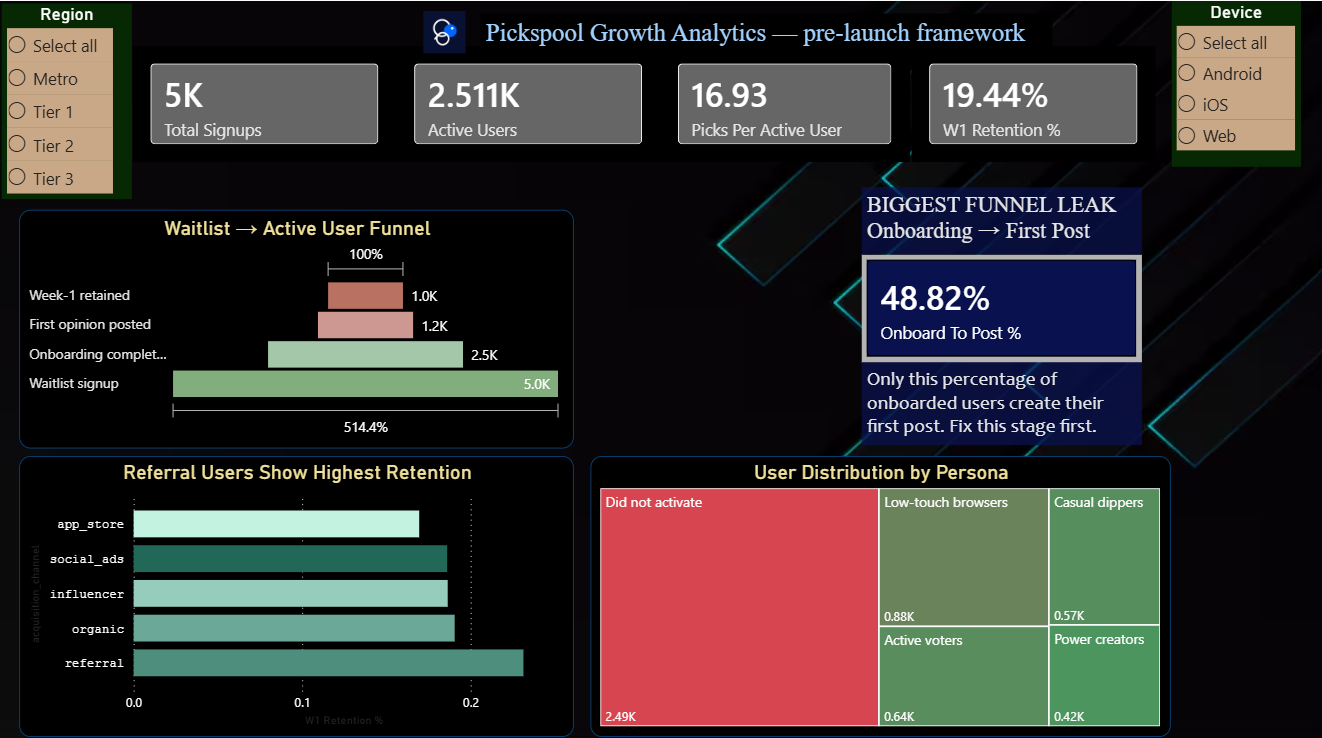

The dashboard page shown, as its layout file describes it:
{"tool":"powerbi","page":{"name":"Pickspool Growth Analytics","canvas":[1280,720],"ordinal":0},"visuals":[{"type":"funnel","title":"Waitlist → Active User Funnel","fields":{"Category":["pickspool_funnel_stages.funnel_stage"],"Y":["Sum(pickspool_funnel_stages.users)"]},"box":[20.5,201.3,535.4,230],"z":0},{"type":"clusteredBarChart","title":"Referral Users Show Highest Retention","fields":{"Category":["pickspool_users_enriched.acquisition_channel"],"Y":["pickspool_events.W1 Retention %"]},"box":[20.5,439.5,535.4,271.1],"z":1000},{"type":"cardVisual","fields":{"Data":["pickspool_events.Total Signups"]},"box":[130.1,43.8,254.7,112.3],"z":2000},{"type":"cardVisual","fields":{"Data":["pickspool_events.Active Users"]},"box":[384.8,43.8,254.7,112.3],"z":3000},{"type":"cardVisual","fields":{"Data":["pickspool_events.Picks Per Active User"]},"box":[639.5,43.8,241,112.3],"z":4000},{"type":"cardVisual","fields":{"Data":["pickspool_events.W1 Retention %"]},"box":[881.8,43.8,235.5,112.3],"z":5000},{"type":"cardVisual","fields":{"Data":["pickspool_users_enriched.Onboard To Post %"]},"box":[822.9,245.1,269.7,104.1],"z":6000},{"type":"textbox","box":[822.9,179.4,269.7,65.7],"z":7000},{"type":"textbox","box":[822.9,349.2,269.7,79.4],"z":8000},{"type":"treemap","title":"User Distribution by Persona","fields":{"Group":["pickspool_users_enriched.cluster_label"],"Values":["Count(pickspool_users_enriched.user_id)"]},"box":[572.4,439.5,560,271.1],"z":9000},{"type":"listSlicer","fields":{"Values":["pickspool_users_enriched.region"]},"box":[4.1,2.7,126,189],"z":10000},{"type":"listSlicer","fields":{"Values":["pickspool_users_enriched.device"]},"box":[1132.4,0,124.6,160.2],"z":11000},{"type":"textbox","box":[465.6,12.3,551.8,43.8],"z":11001},{"type":"image","box":[397.1,9.6,68.5,41.1],"z":11002}]}

Visuals, with their boxes in screenshot pixels (x1, y1, x2, y2), scaled from the page's 1280x720 canvas onto the 1322x738 screenshot:
"Waitlist → Active User Funnel" funnel: rect(21, 206, 574, 442)
"Referral Users Show Highest Retention" clusteredBarChart: rect(21, 450, 574, 728)
cardVisual - pickspool_events.Total Signups: rect(134, 45, 397, 160)
cardVisual - pickspool_events.Active Users: rect(397, 45, 660, 160)
cardVisual - pickspool_events.Picks Per Active User: rect(660, 45, 909, 160)
cardVisual - pickspool_events.W1 Retention %: rect(911, 45, 1154, 160)
cardVisual - pickspool_users_enriched.Onboard To Post %: rect(850, 251, 1128, 358)
textbox: rect(850, 184, 1128, 251)
textbox: rect(850, 358, 1128, 439)
"User Distribution by Persona" treemap: rect(591, 450, 1170, 728)
listSlicer - pickspool_users_enriched.region: rect(4, 3, 134, 196)
listSlicer - pickspool_users_enriched.device: rect(1170, 0, 1298, 164)
textbox: rect(481, 13, 1051, 58)
image: rect(410, 10, 481, 52)
